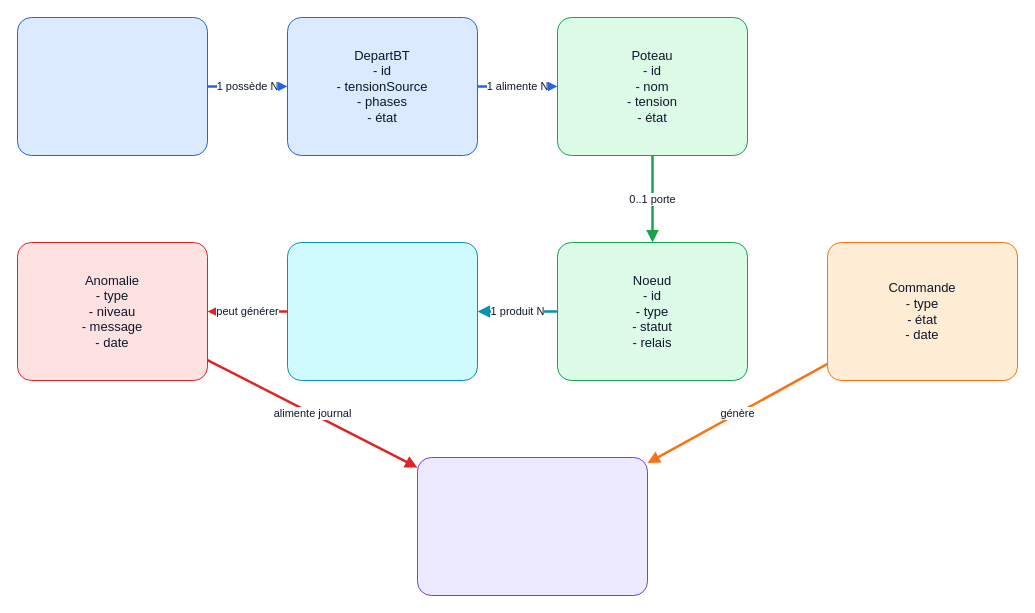
The diagram is 1035 pixels wide and 613 high, and some of its shapes have lost their labels. The shapes that lost their labels are listed below. From the top down, each one's centre as x and y in pixels, then its label:
the point at 112,86: Cabine - id - nom - puissance - charge - état
the point at 382,311: Mesure - tension - courant - température - date
the point at 532,526: EvenementSCADA - source - type - niveau - message
